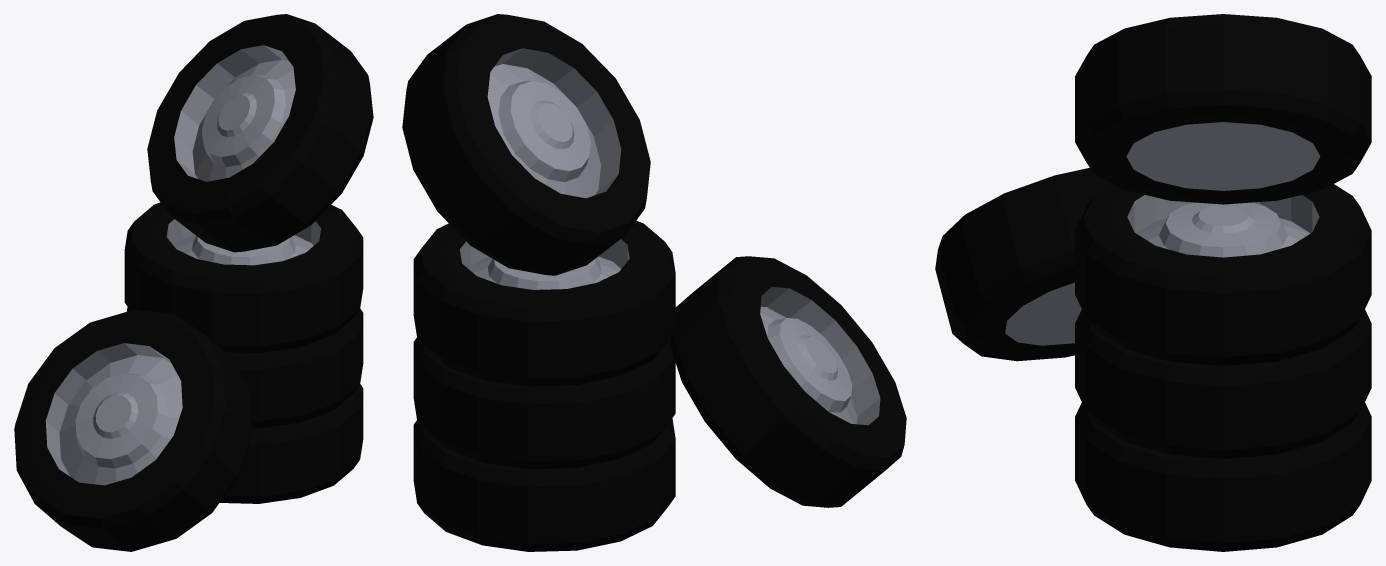
Rendered from AlexBuildingTiresV2.fbx.
3 views of the same model, side by side, from view 1: azimuth 30°, elevation 25°; view 2: azimuth 150°, elevation 25°; view 3: azimuth 270°, elevation 25° (orthographic). The views are drawn at different scales.
Parts seen in each view (by area): view 1: Alex Tires; view 2: Alex Tires; view 3: Alex Tires.
Boxes of the visible parts, x1,y1,x2,y2 form: Alex Tires: [14, 14, 373, 551]; Alex Tires: [402, 14, 906, 551]; Alex Tires: [935, 14, 1371, 551].
Bounding box in the file's own units: 340 × 412 × 444.
